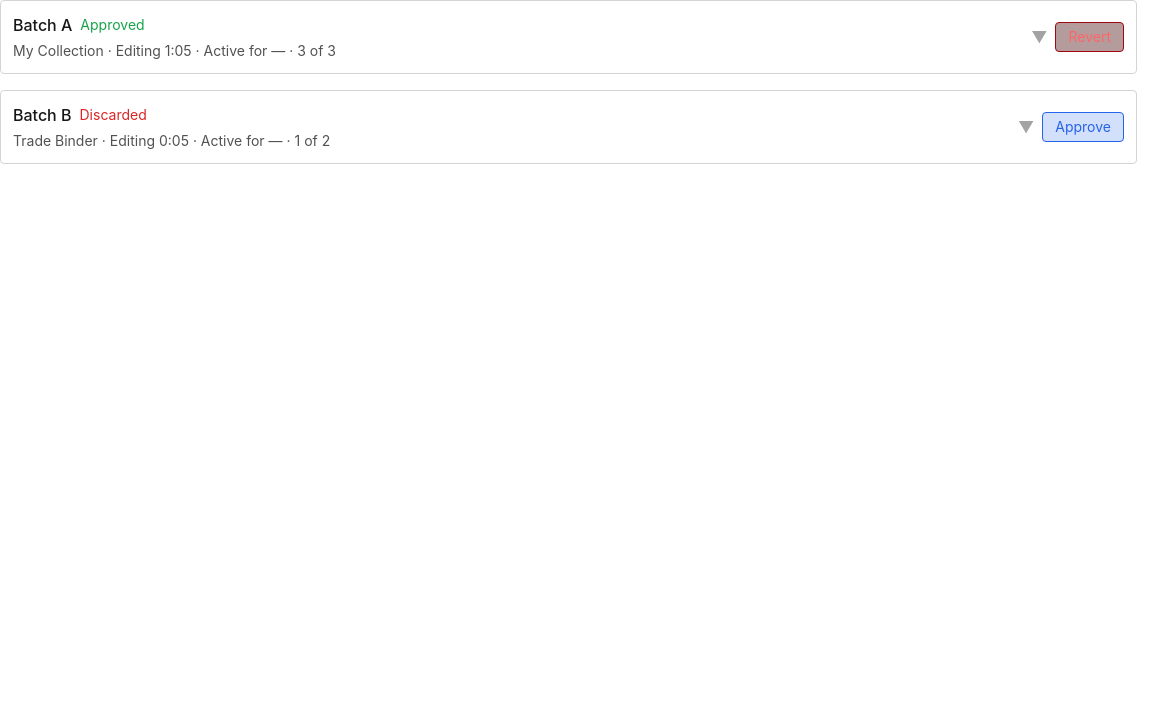
Test: BatchHistoryList › links each card to its detail popup
Click the button "Batch A". click: (43, 25)
box: left=13, top=13, right=1048, bottom=61
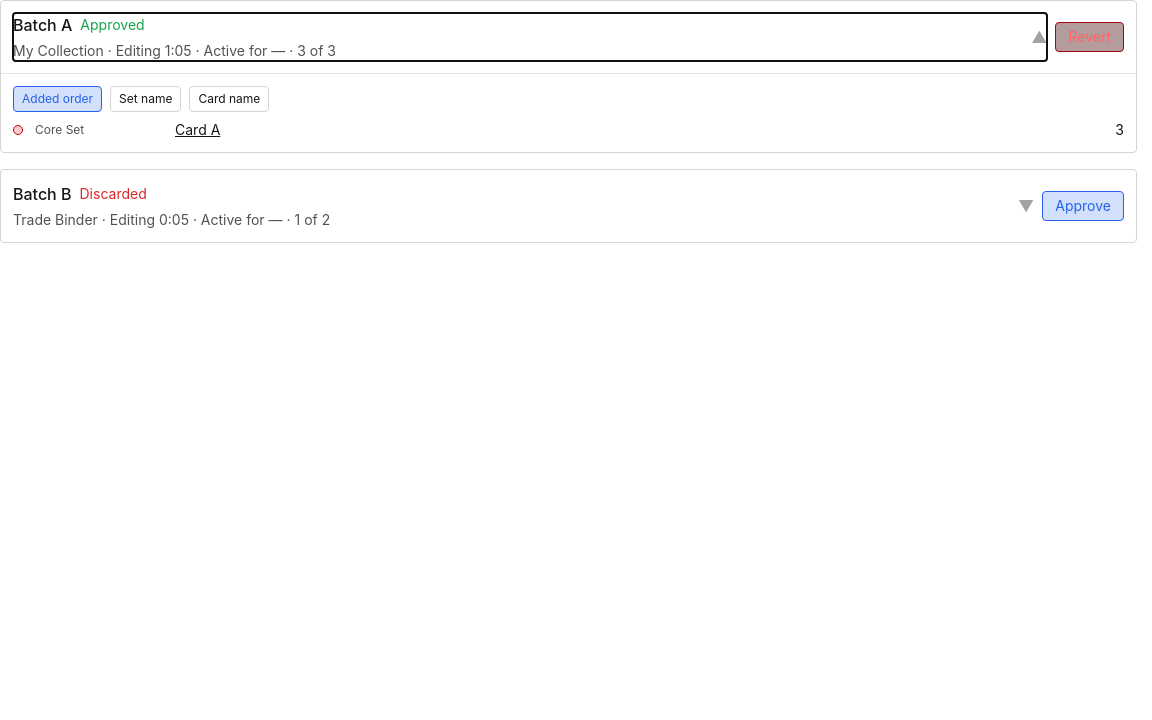
Click the button with aria-label "Show details for Card A". click: (198, 130)
box: left=175, top=120, right=220, bottom=140
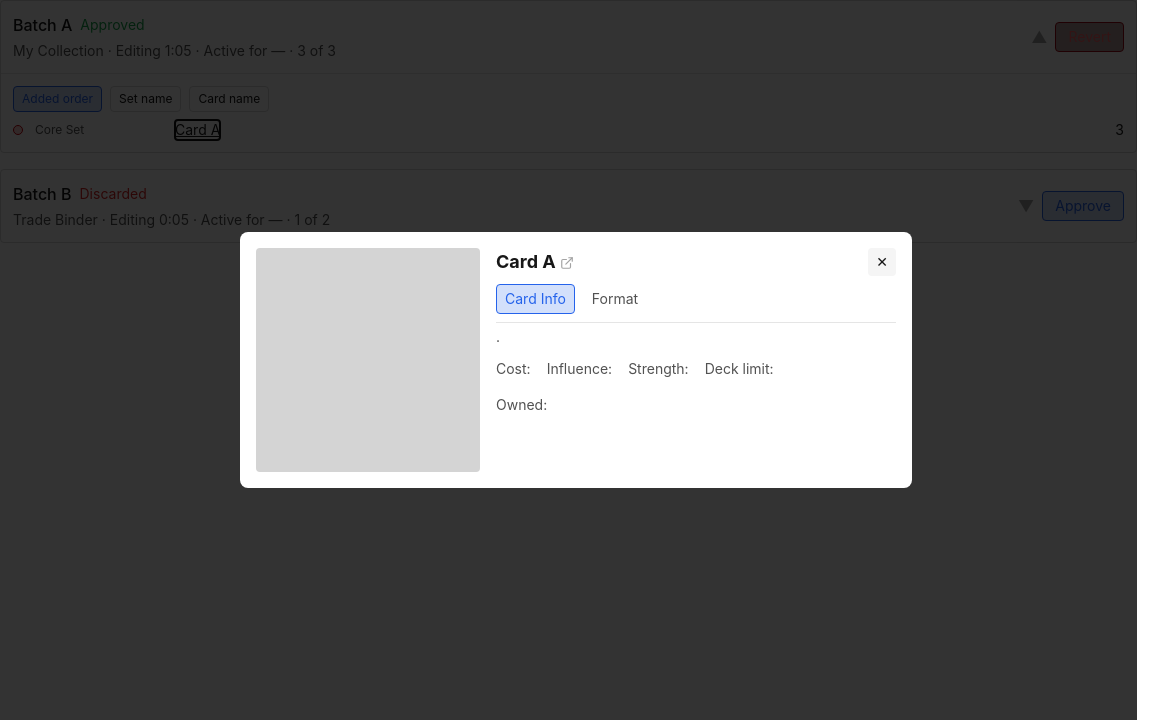
Expected: the heading "Card A" is shown, left=496, top=248, right=574, bottom=276
